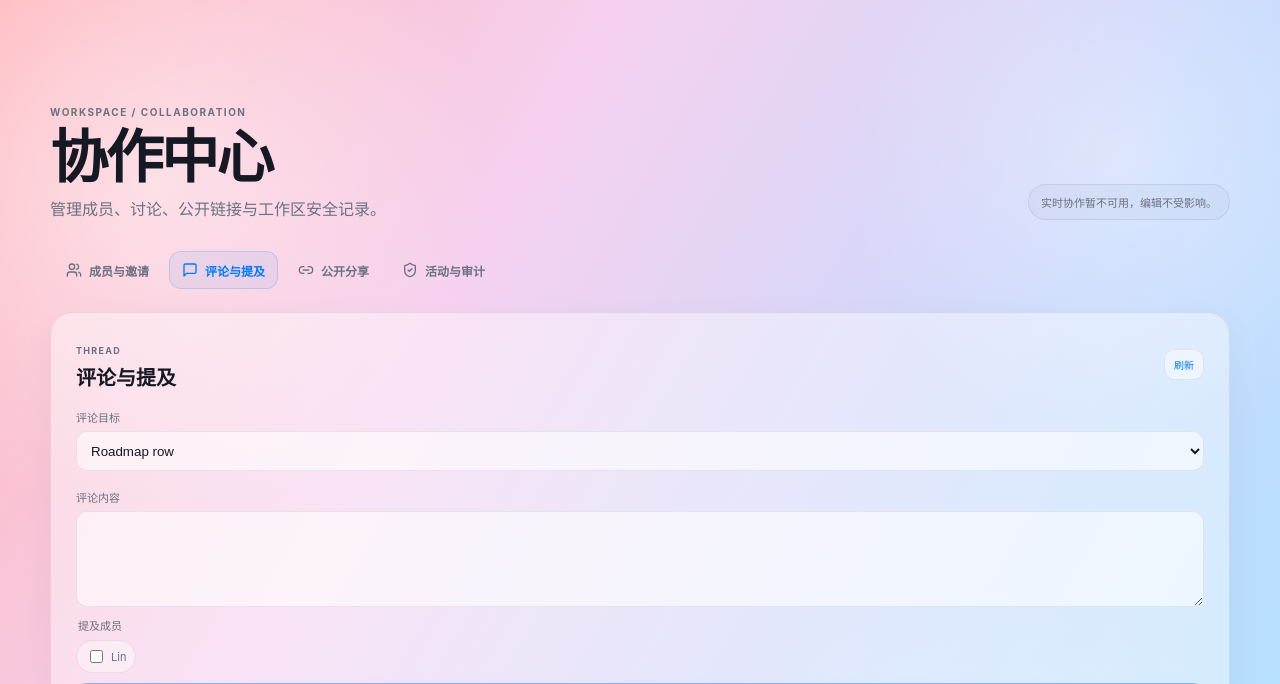
Test case: collaboration center › uses selectable context targets, reloads on target changes, and lets owners moderate comments
The image size is (1280, 684).
Select "Public Beta 重写计划" in the dropdown labelled "评论目标" at [640, 451], box [76,431,1204,471]
Click the button "公开分享" at [334, 270], box [285,251,382,289]
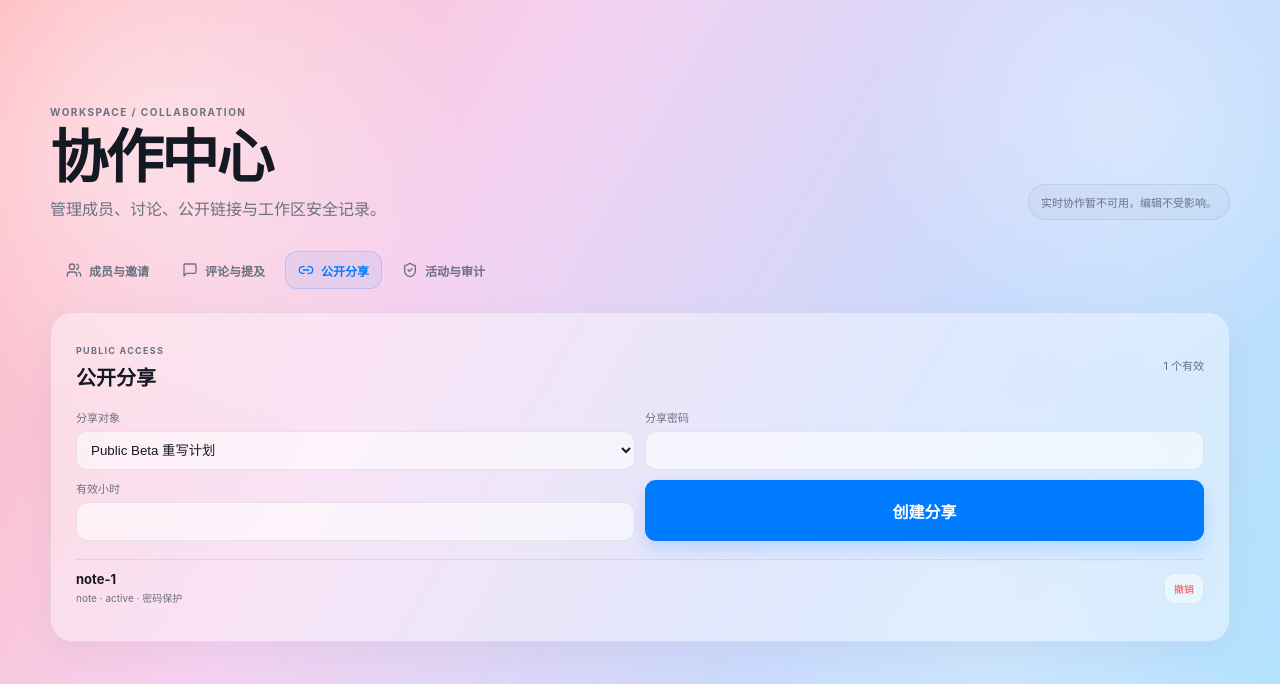
Now the dropdown labelled "分享对象" shows "Public Beta 重写计划", box [76,431,635,470]
